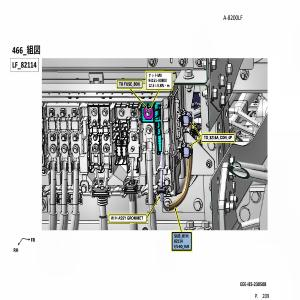PartNumber: (148, 77, 167, 83)
